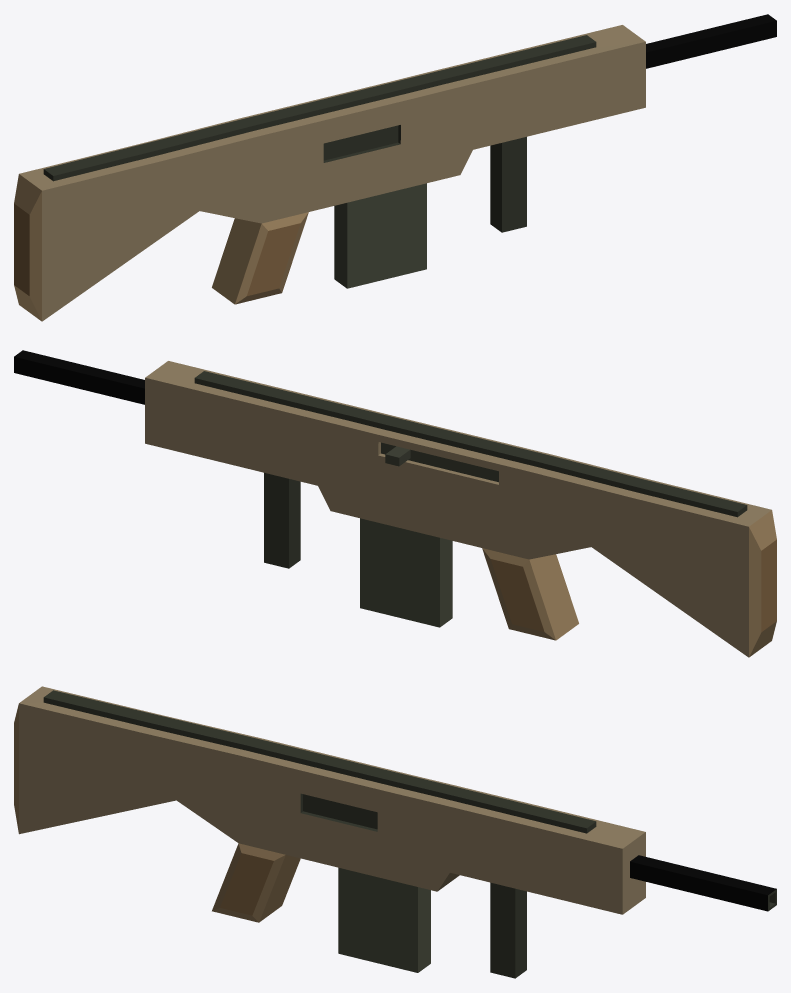
Rendered from mainline.glb.
The picture shows the model from 3 angles, top to bottom: view 1: azimuth 30°, elevation 25°; view 2: azimuth 150°, elevation 25°; view 3: azimuth 330°, elevation 25°; orthographic projection.
Parts seen in each view (by area): view 1: Body, Magazine; view 2: Body, Magazine, BoltCarrier; view 3: Body, Magazine.
Part boxes in pixels (left/top/right/bottom): Body: left=14, top=14, right=776, bottom=321; Magazine: left=334, top=183, right=426, bottom=288; Body: left=14, top=350, right=776, bottom=657; Magazine: left=360, top=518, right=452, bottom=627; BoltCarrier: left=381, top=442, right=498, bottom=482; Body: left=14, top=686, right=776, bottom=978; Magazine: left=338, top=867, right=430, bottom=972.
Bounding box in the file's own units: 11.48 × 2.72 × 0.8941.
1 material, 1 textured.
